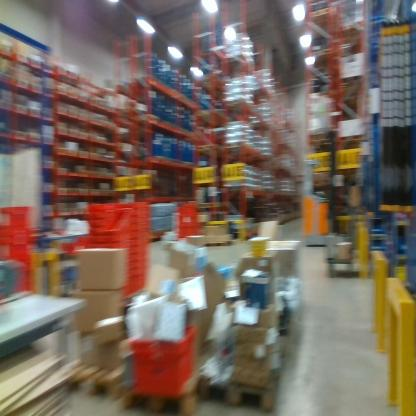forklift: (301, 119, 344, 250)
pallet: (119, 333, 218, 414), (201, 331, 288, 415), (62, 351, 147, 398)
small_load_carrier: (90, 209, 131, 245), (1, 230, 37, 264), (1, 204, 35, 235), (7, 262, 37, 295)
